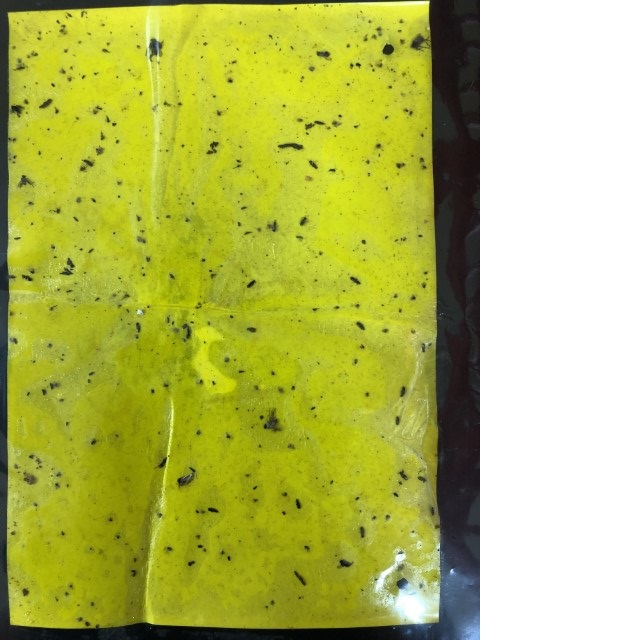DBM: (178, 471, 197, 488)
